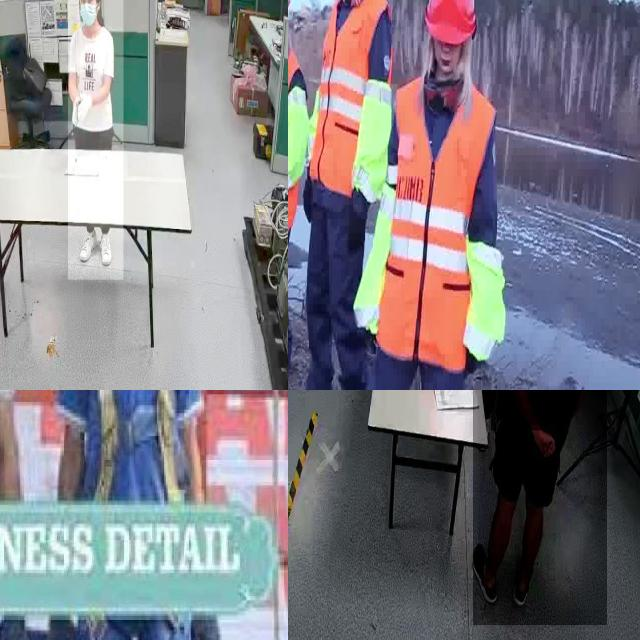Harness: (81, 390, 190, 507)
boots: (289, 372, 334, 390)
face_mask: (78, 0, 103, 24)
hand_glove: (72, 83, 96, 132), (304, 169, 314, 221)
hand_noglove: (532, 425, 556, 460)
head_helmet: (421, 0, 474, 45)
person: (391, 0, 498, 390), (304, 0, 389, 390), (472, 390, 607, 626), (68, 0, 124, 280), (288, 0, 308, 369)
shoes: (471, 536, 502, 606), (508, 552, 538, 612), (78, 228, 100, 264), (98, 229, 114, 265)
vest: (400, 71, 490, 377), (310, 0, 391, 202), (288, 55, 302, 224)
